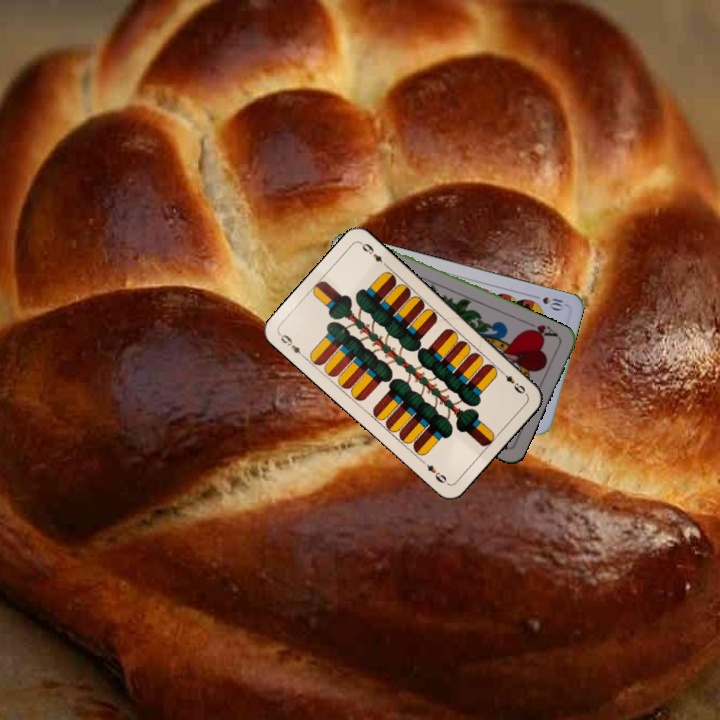E9: (496, 366, 529, 397), (275, 330, 308, 361)
HA: (521, 317, 561, 341)
S10: (528, 292, 568, 312)
